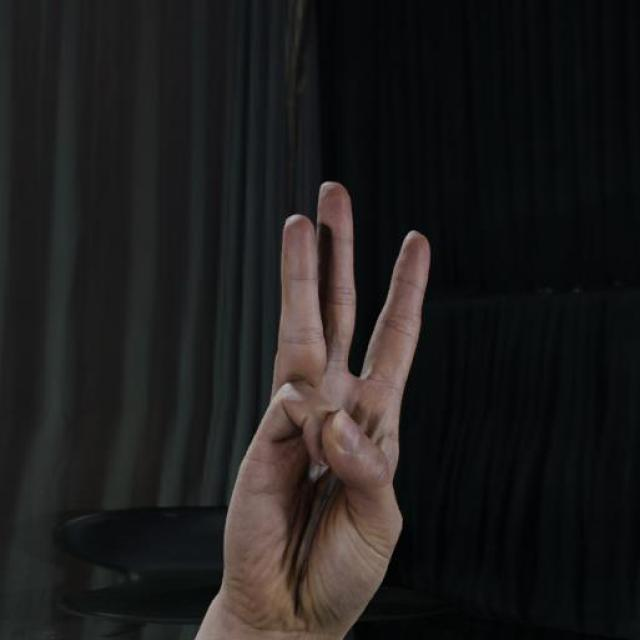W: (198, 155, 473, 640)
